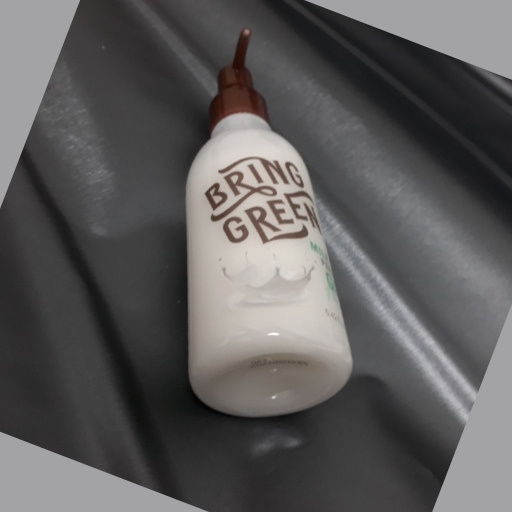Plastic_3: (176, 28, 353, 414)
